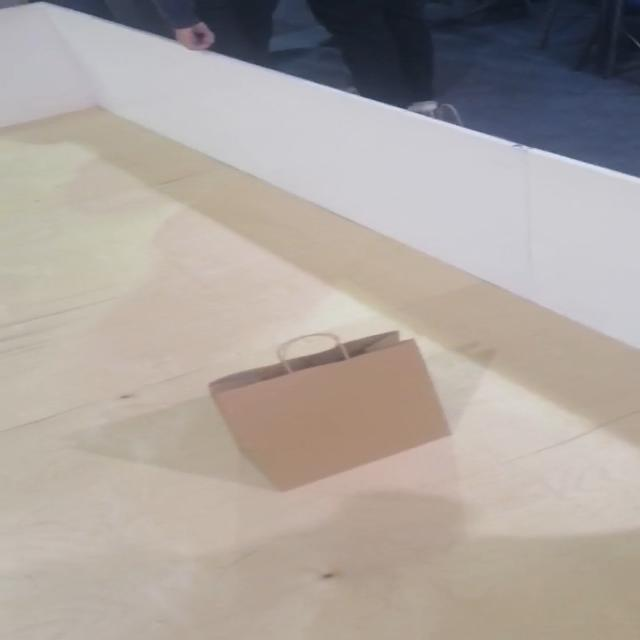paper bag: (206, 330, 454, 492)
